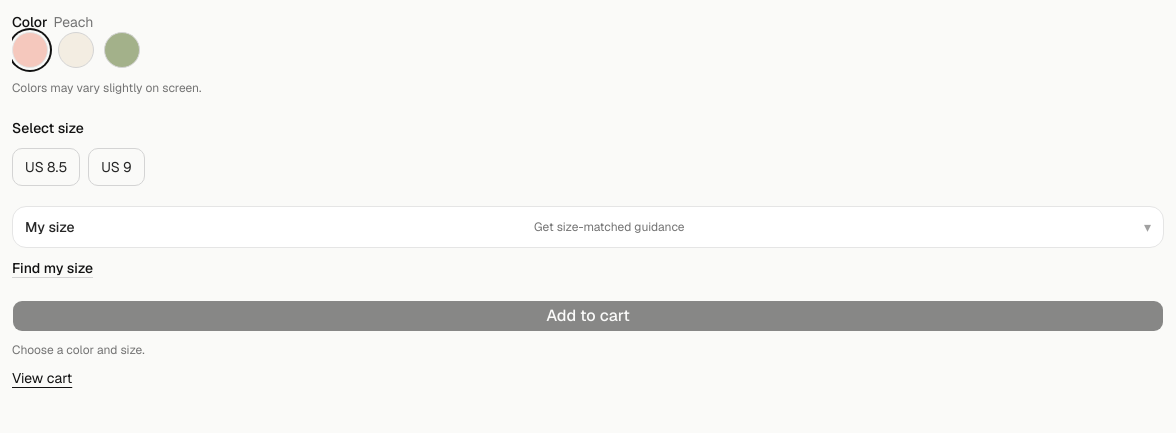
Test: ProductActions 由 Python 变体驱动选择 › 使用显式 US 尺码体系生成 Python 尺码标签
Expected: the 4th radio button labelled "US 9" is shown, [88,148,144,186]
Click the 4th radio button labelled "US 8.5". click: (46, 167)
box: [12,148,80,186]
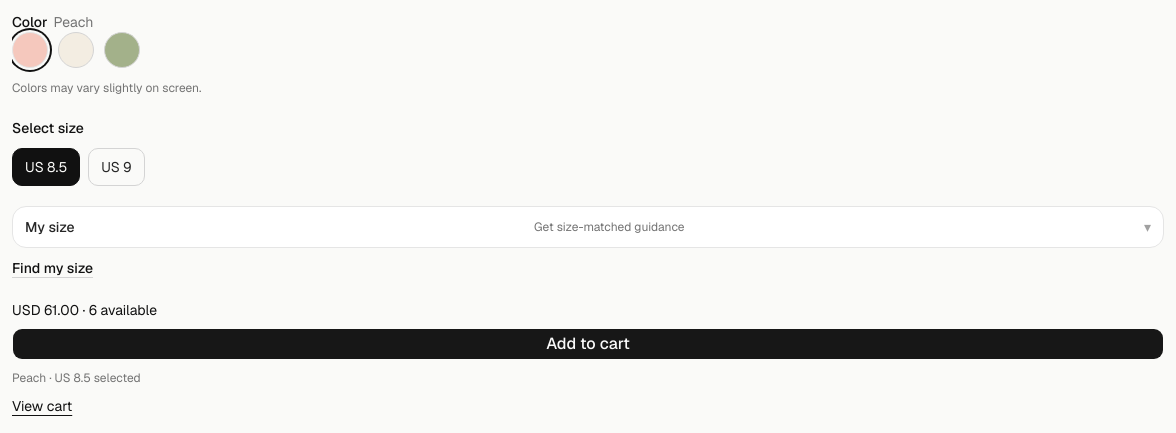
Expected: the message shows "US 8.5", [12,370,141,386]
Expected: the text "USD 61.00 · 6 available" is shown, [12,301,157,319]
